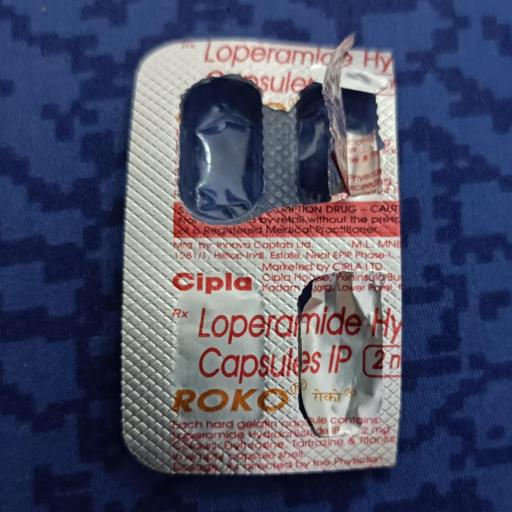cipla ROKO: (103, 18, 435, 501)
